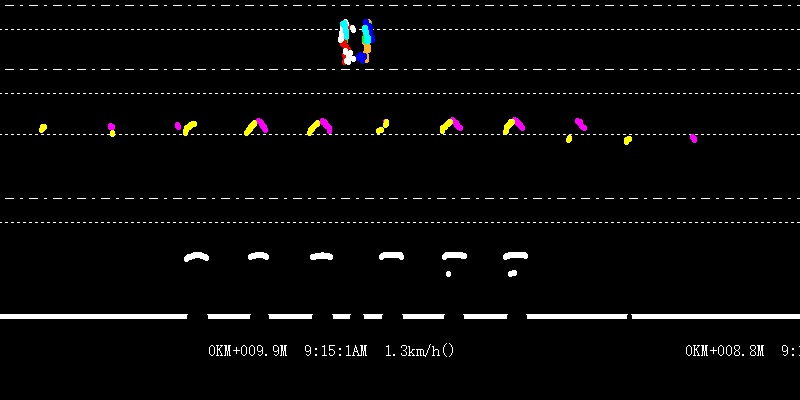J: (337, 1, 375, 66)
y_p: (174, 115, 533, 271)
